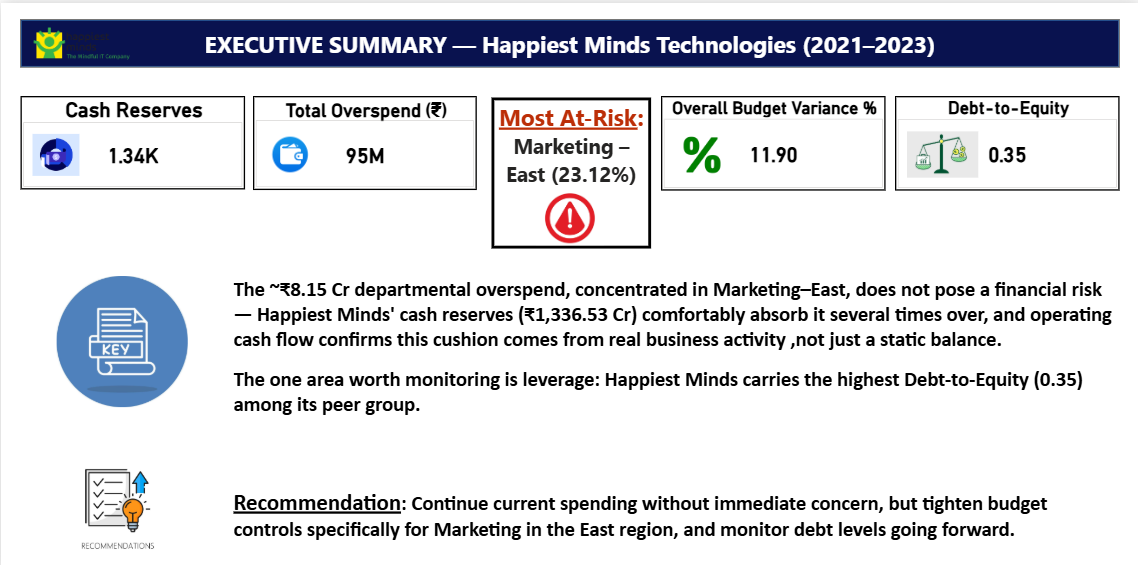

Layout of this report page (visuals, bound fields, positions):
{"tool":"powerbi","page":{"name":"Executive Summary","canvas":[4000,2000],"ordinal":2},"visuals":[{"type":"cardVisual","title":"Debt-to-Equity ","fields":{"Data":["Sum(ratios.Debt to equity)"]},"box":[3136,324,788,332],"z":0},{"type":"cardVisual","title":"Cash Reserves ","fields":{"Data":["Sum(balance_sheet.Cash Equivalents)"]},"box":[68,324,788,328],"z":1000},{"type":"cardVisual","title":"Total Overspend (₹)","fields":{"Data":["budget_actual.Total Overspend"]},"box":[885,325,785,330],"z":2000},{"type":"cardVisual","title":"Overall Budget Variance %","fields":{"Data":["budget_actual.Variance %"]},"box":[2316,328,788,332],"z":3000},{"type":"textbox","box":[810,955,3115,990],"z":4000},{"type":"shape","box":[68,56,3856,168],"z":5000},{"type":"image","box":[68,56,428,168],"z":6000},{"type":"textbox","box":[1720,330,560,530],"z":7000},{"type":"image","box":[105,450,175,160],"z":7001},{"type":"image","box":[885,430,260,200],"z":7002},{"type":"image","box":[2390,450,140,160],"z":7003},{"type":"image","box":[1875,655,245,205],"z":7004},{"type":"image","box":[3175,425,260,210],"z":7005},{"type":"image","box":[105,955,640,470],"z":7006},{"type":"image","box":[195,1545,430,455],"z":7007}]}

Visuals, with their boxes in screenshot pixels (x1, y1, x2, y2), scaled from the page's 4000x2000 canvas onto the 1138x565 screenshot:
"Debt-to-Equity " cardVisual: 892 92 1116 185
"Cash Reserves " cardVisual: 19 92 244 184
"Total Overspend (₹)" cardVisual: 252 92 475 185
"Overall Budget Variance %" cardVisual: 659 93 883 186
textbox: 230 270 1117 549
shape: 19 16 1116 63
image: 19 16 141 63
textbox: 489 93 649 243
image: 30 127 80 172
image: 252 121 326 178
image: 680 127 720 172
image: 533 185 603 243
image: 903 120 977 179
image: 30 270 212 403
image: 55 436 178 564
